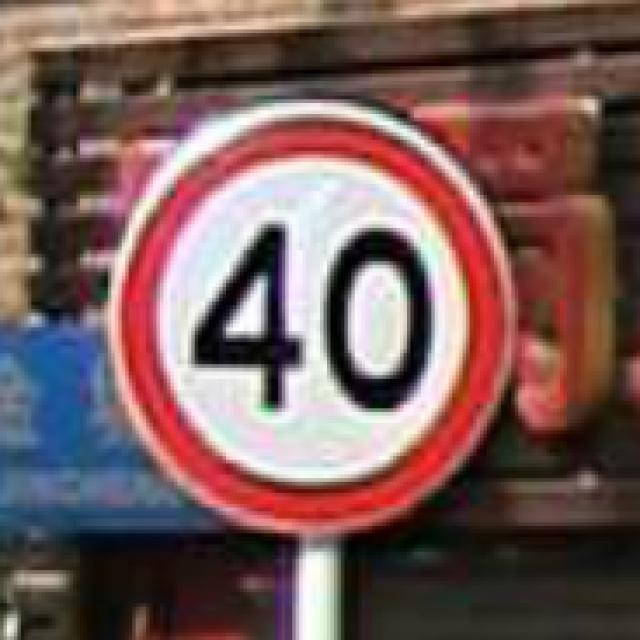speed limit 40: (109, 99, 515, 540)
